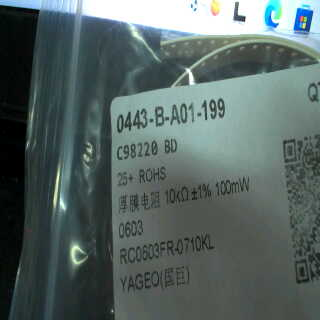10kR: (162, 185, 191, 205)
